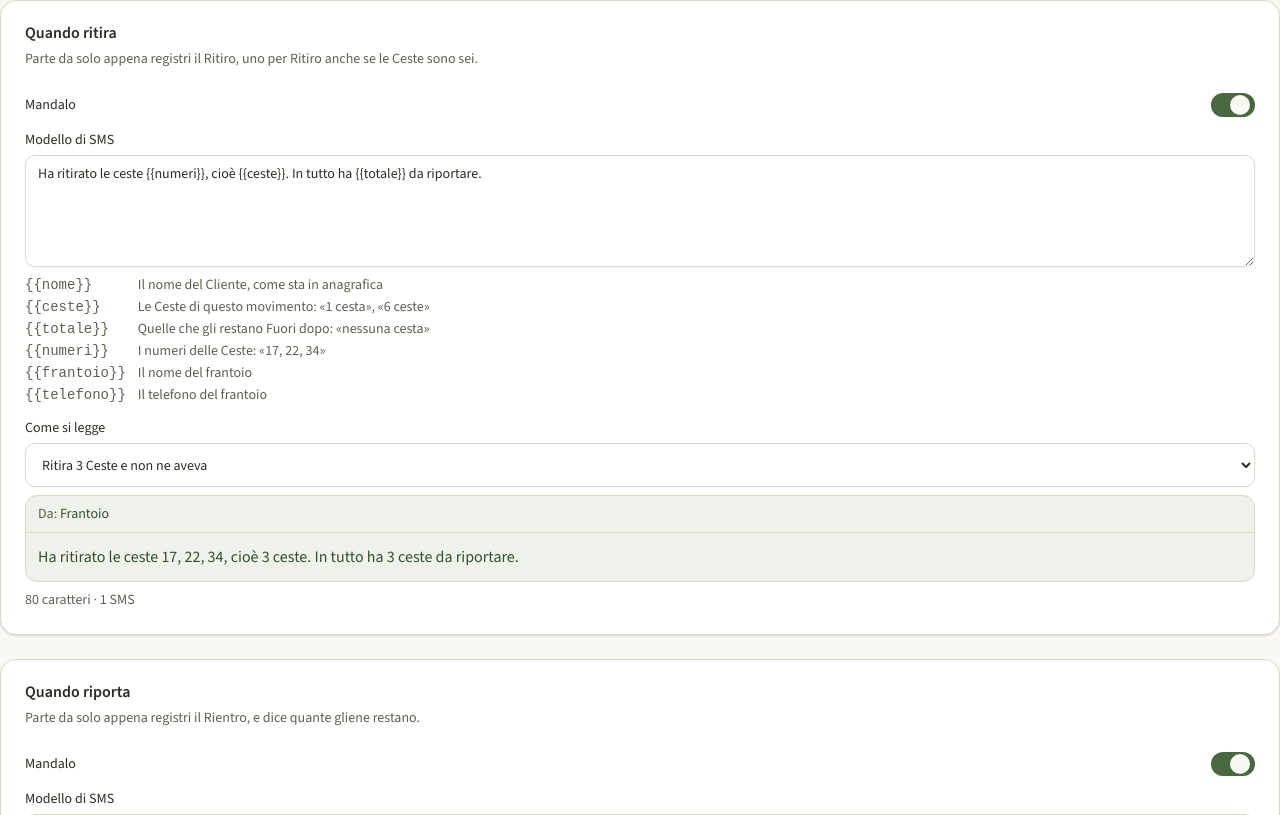
Scenario: a Ritiro lists as many numbers as it counts
Select "Ritira 3 Ceste e non ne aveva" in the dropdown labelled "Come si legge" at (640, 465), box [25,443,1255,487]
Expected: the text with class "whitespace-pre-wrap" reads "Ha ritirato le ceste 17, 22, 34, cioè 3 ceste. In tutto ha 3 ceste da riportare.", [38,546,519,567]
Select "Ritira una Cesta sola" in the dropdown labelled "Come si legge" at (640, 465), box [25,443,1255,487]
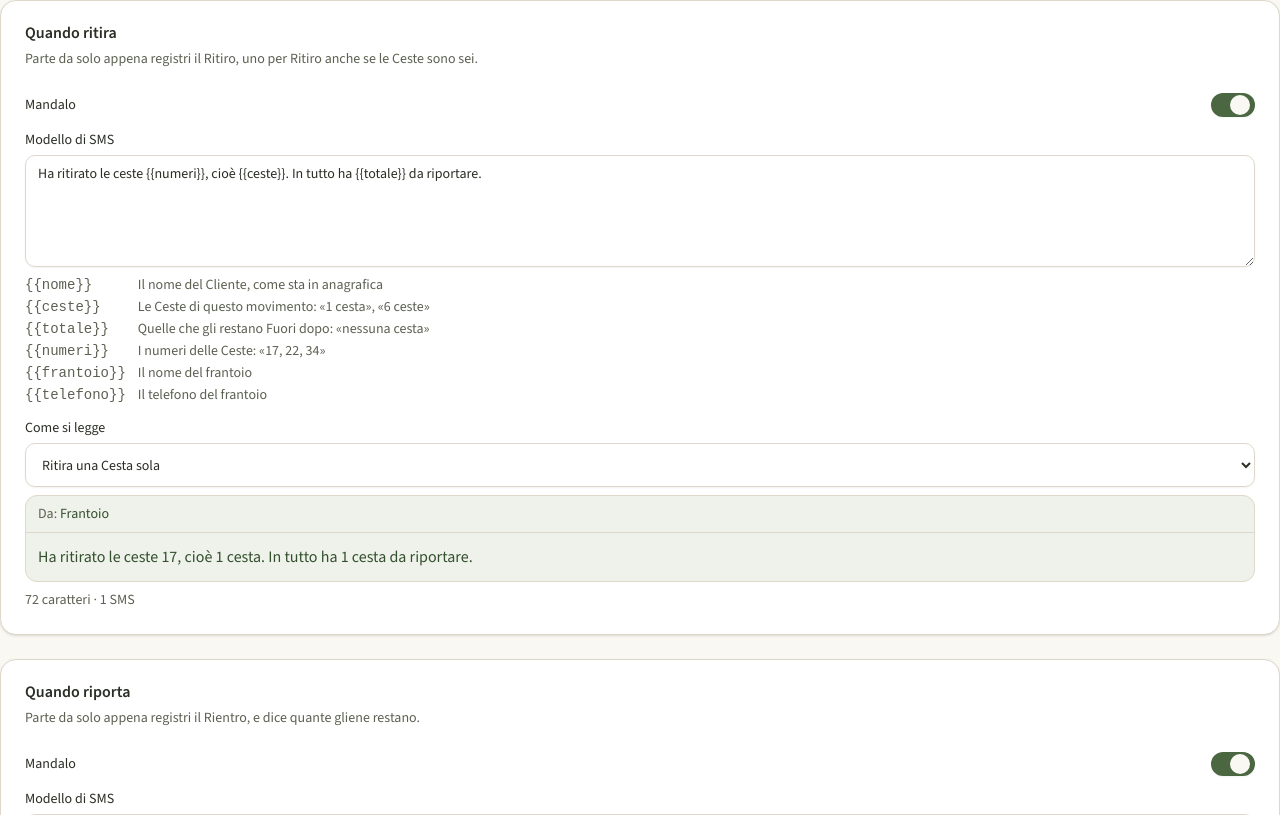
Now the text with class "whitespace-pre-wrap" reads "Ha ritirato le ceste 17, cioè 1 cesta. In tutto ha 1 cesta da riportare.", box [38,546,473,567]
